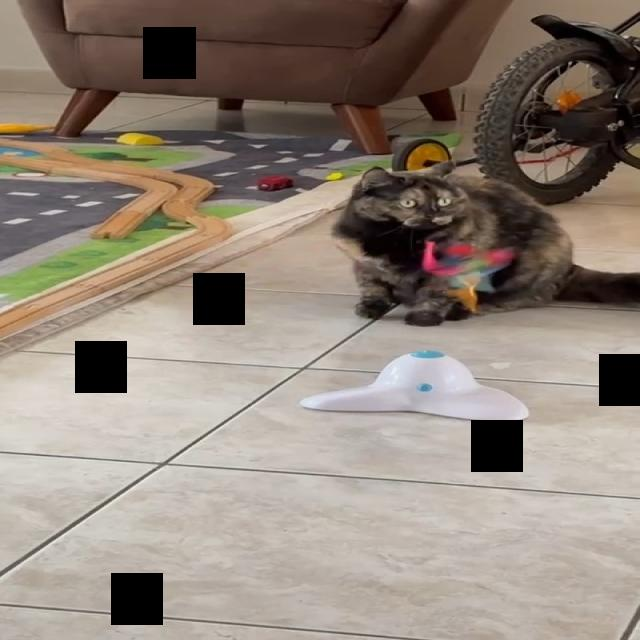authorized: (329, 158, 639, 327)
